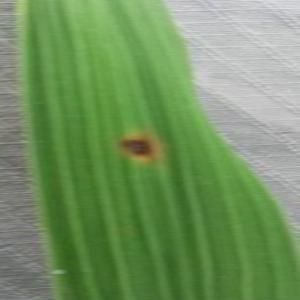Brown_Spot: (110, 129, 163, 165)
